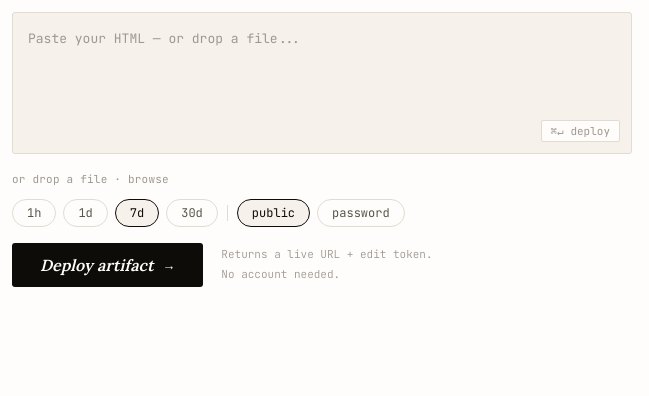
Test case: DeployPanel › posts the right payload and swaps to the result card on success
Type "<h1>hi</h1>" into the text box with placeholder "Paste your HTML — or drop a file..." at (322, 83), box [13, 13, 631, 153]
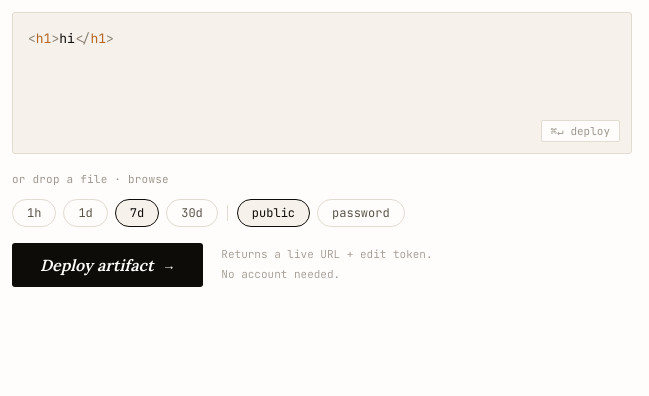
Click the button "Deploy artifact →" at (108, 265), box [12, 243, 203, 287]
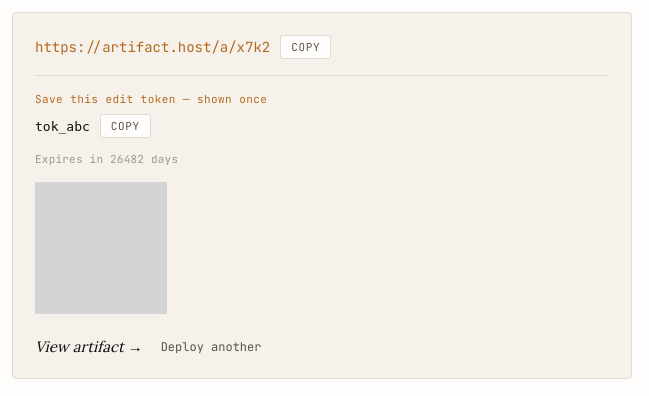
Now the link "https://artifact.host/a/x7k2" is shown, box [35, 38, 270, 56]
Now the text "tok_abc" is shown, box [35, 118, 90, 134]
